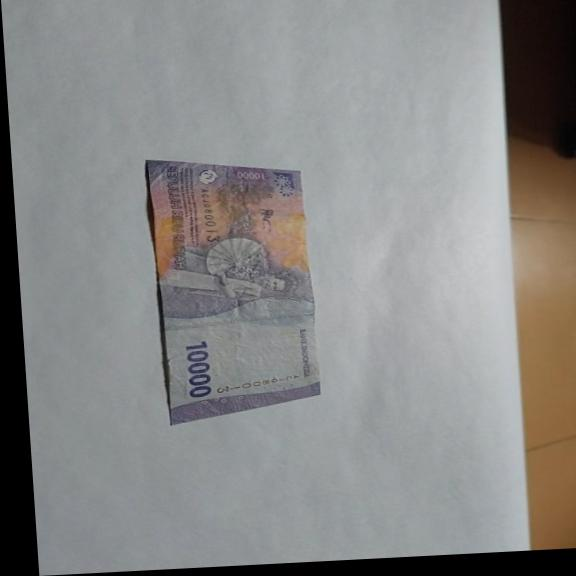Kertas: (143, 150, 325, 427), (182, 340, 214, 398)
